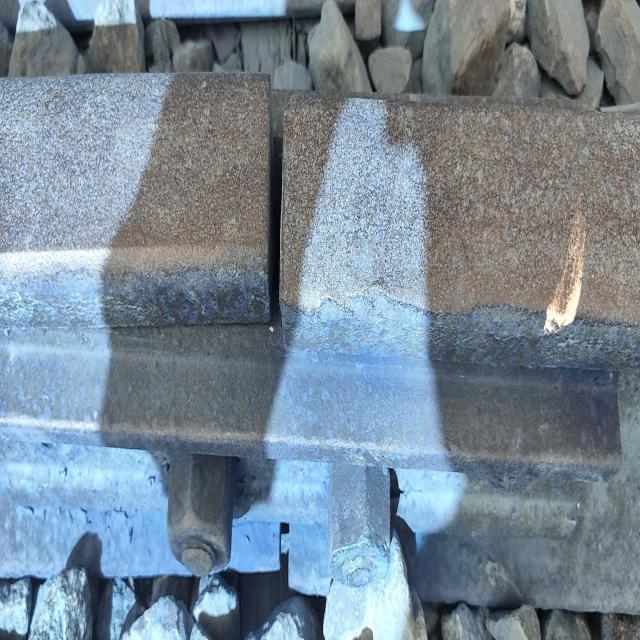Defective Joint: (8, 337, 623, 587)
